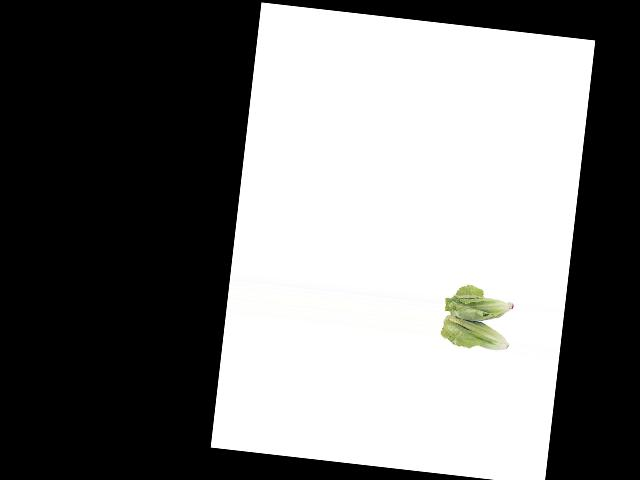lettuce: (439, 289, 515, 356)
